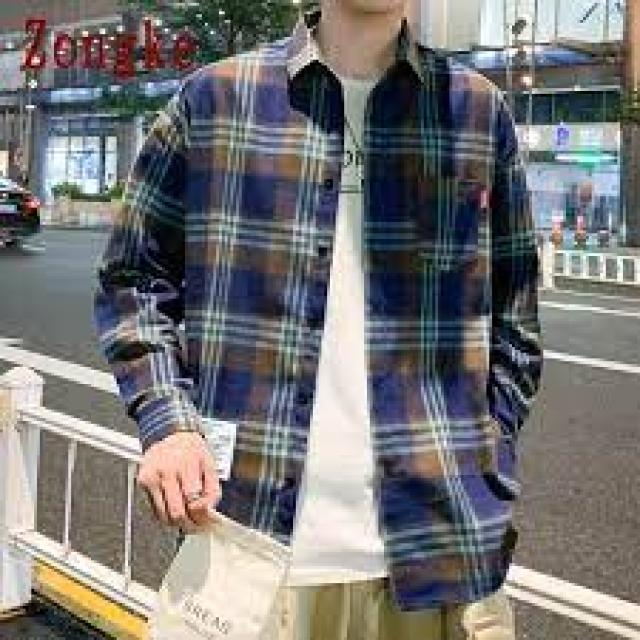plaid: (81, 55, 557, 598)
